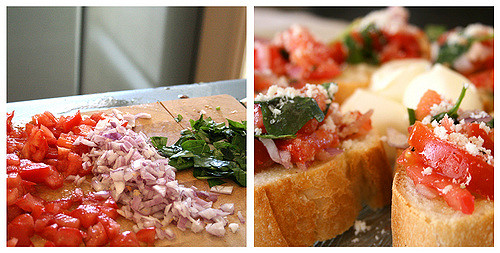boiled potatoes: (382, 60, 444, 97)
slice of bread: (244, 166, 386, 223)
